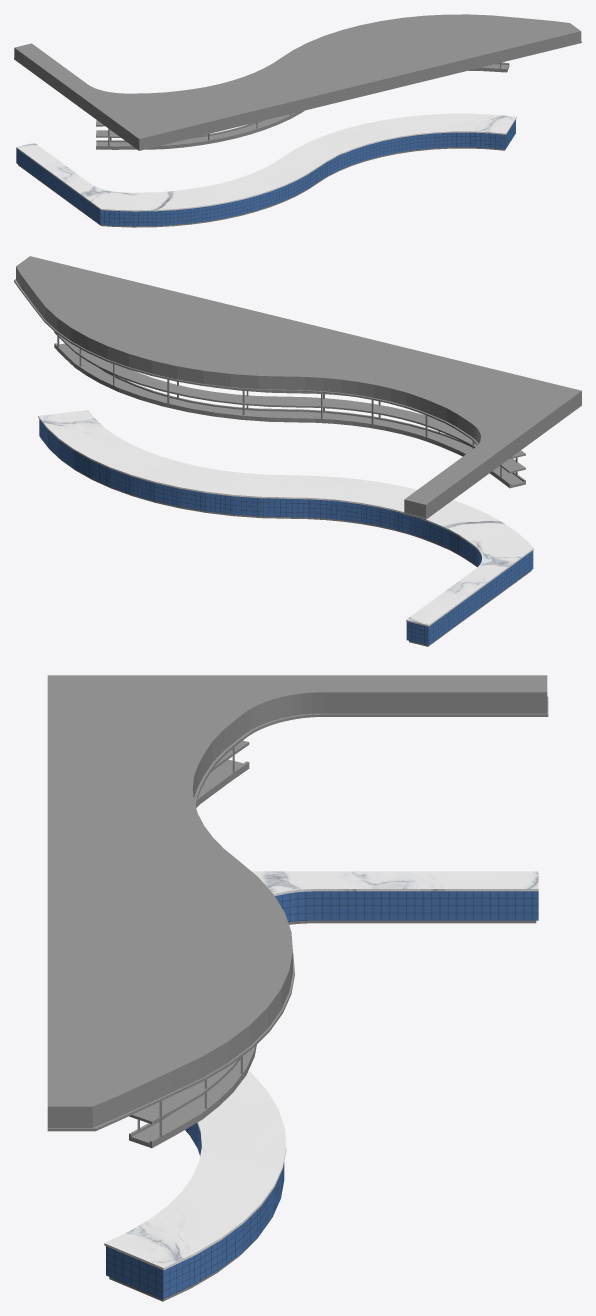
File: shuShi.glb
The picture shows the model from 3 angles, top to bottom: view 1: azimuth 30°, elevation 25°; view 2: azimuth 150°, elevation 25°; view 3: azimuth 270°, elevation 25°; orthographic projection. The views are drawn at different scales.
Parts seen in each view (by area): view 1: shuShi; view 2: shuShi; view 3: shuShi.
Boxes of the visible parts, x1=… form: shuShi: x1=14, y1=14, x2=581, y2=227; shuShi: x1=14, y1=256, x2=581, y2=646; shuShi: x1=47, y1=675, x2=548, y2=1301.
Bounding box in the file's own units: 13.93 × 3.49 × 6.82.
Materials: 4 (3 with a texture image).
